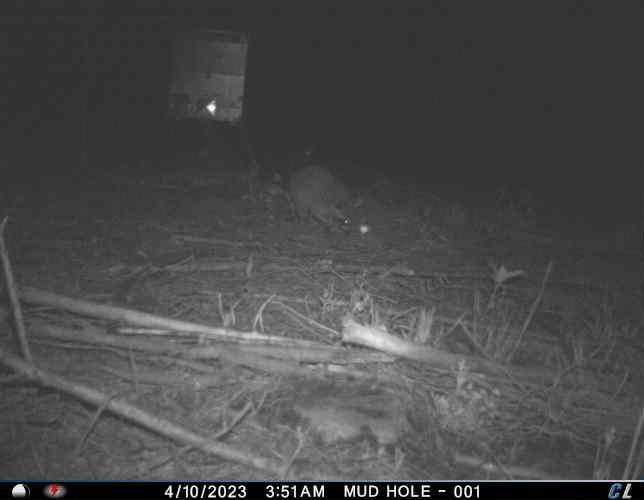Raccoon: (281, 162, 357, 235)
